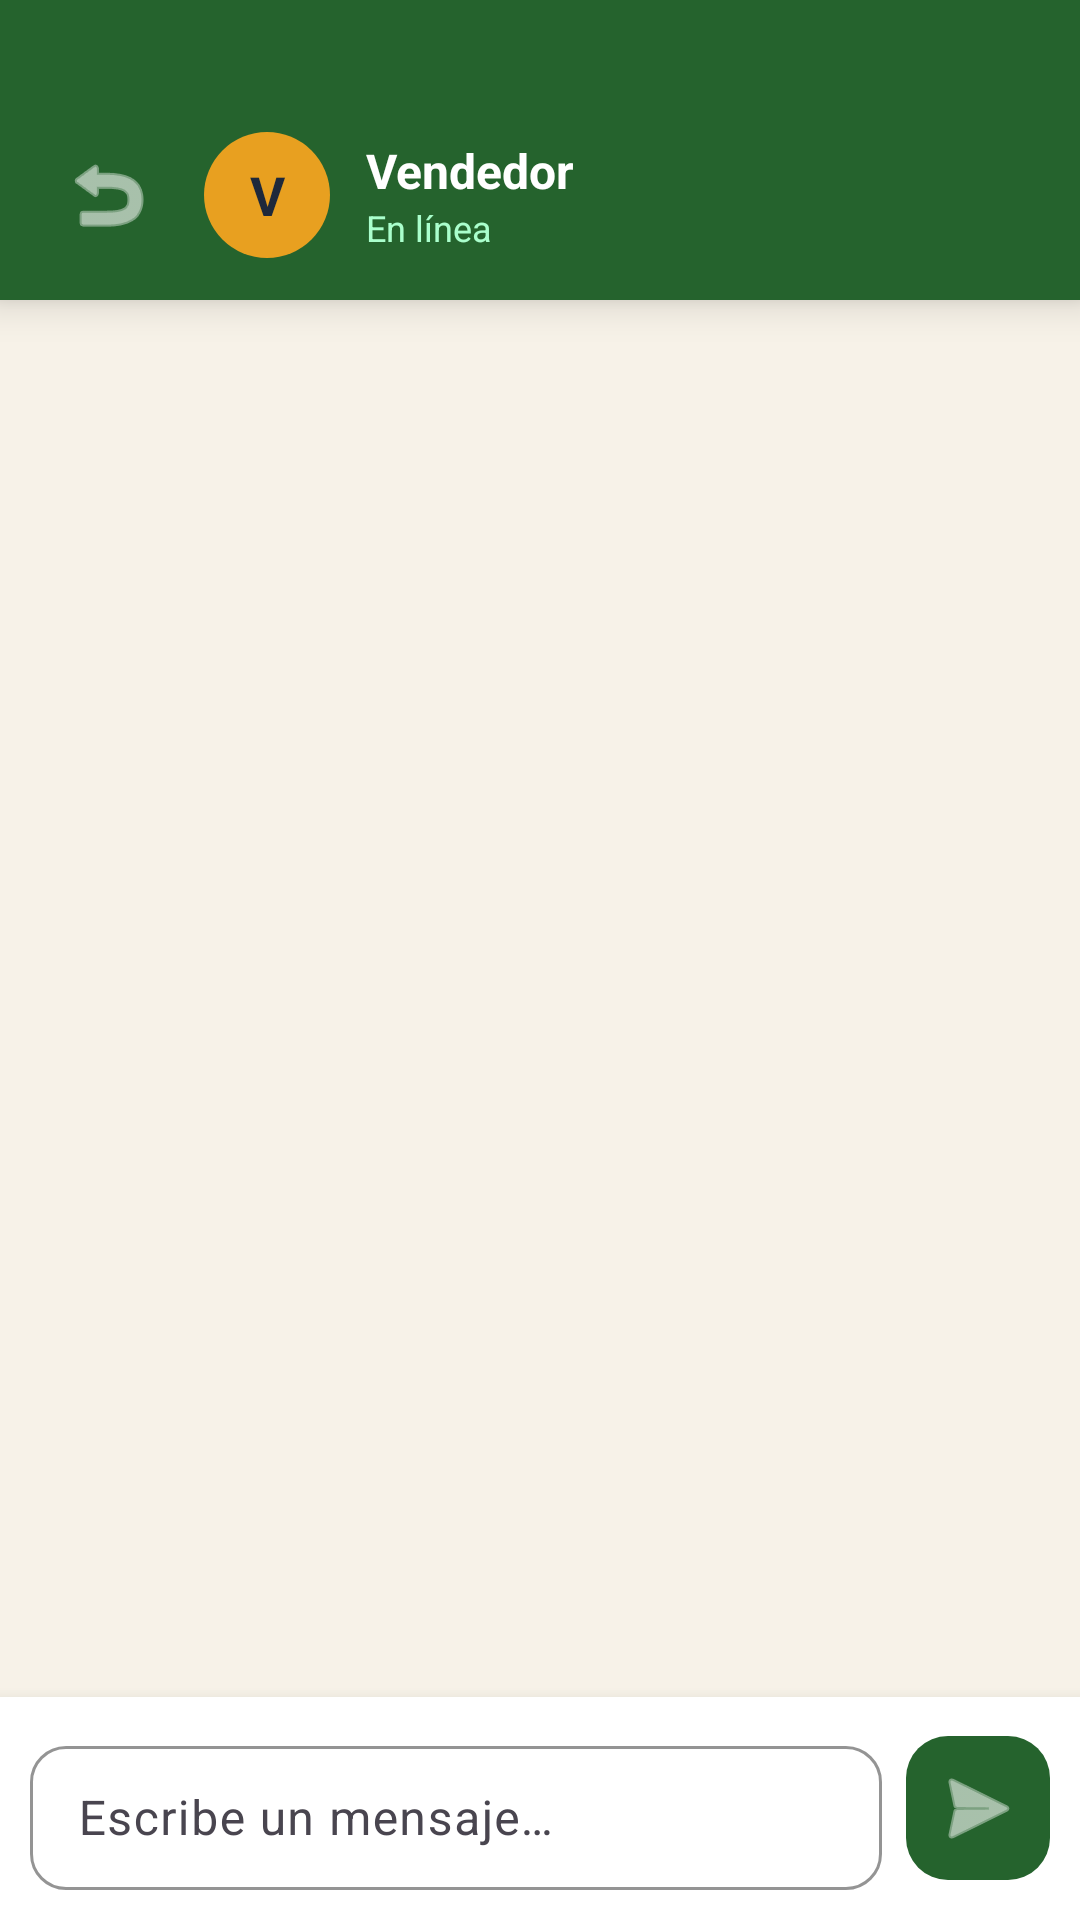

Screen size 1080x1920. Icon name, then its box in pixels as (x1, y1, x2, y2):
Enviar: (906, 1736, 1050, 1880)
Volver: (75, 164, 144, 227)
